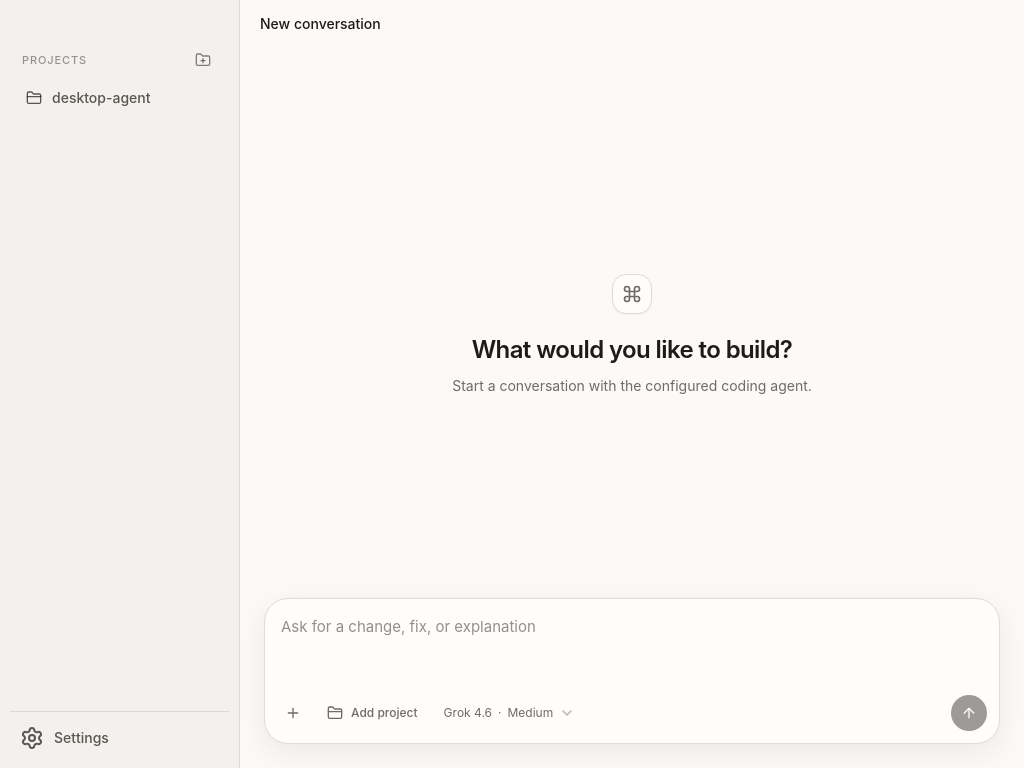
Scenario: App › opens an empty saved project as a scoped conversation draft
This screenshot has width=1024, height=768.
Click the button "desktop-agent" at point(106, 98), box [16,80,195,116]
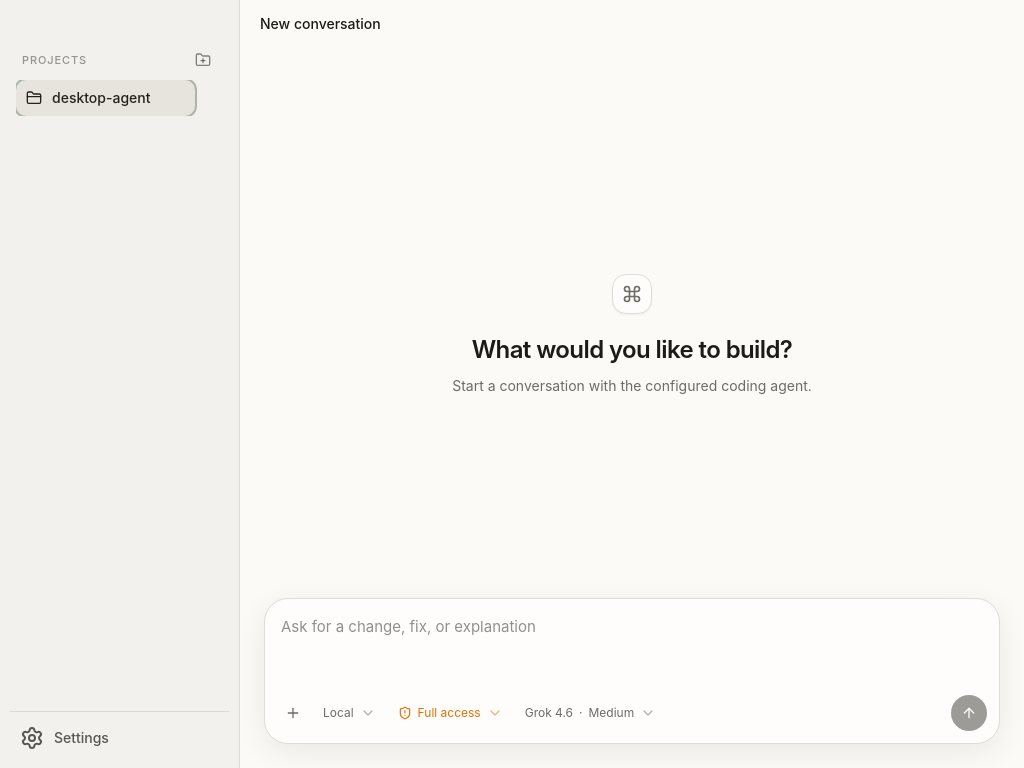
Expected: the dropdown named "Access mode" reads "Full access", [390,697,511,729]
